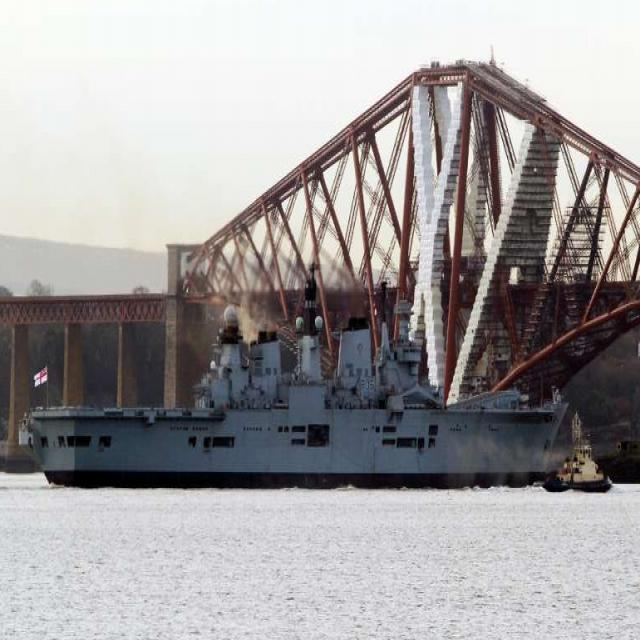Portanaves: (21, 250, 577, 492)
